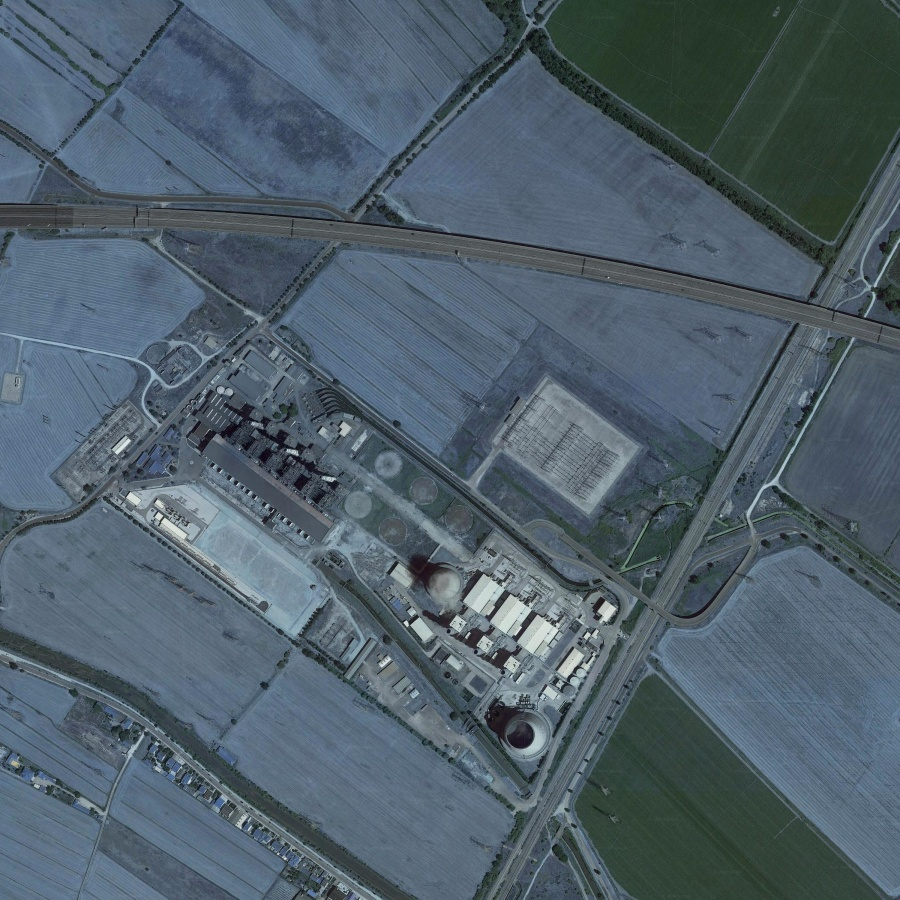PowerPlant: (160, 369, 614, 776)
